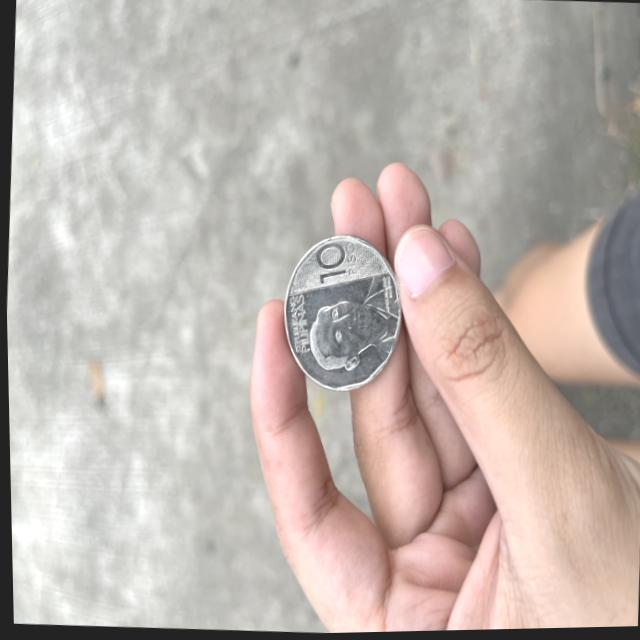10_New_Front: (310, 238, 363, 288)
